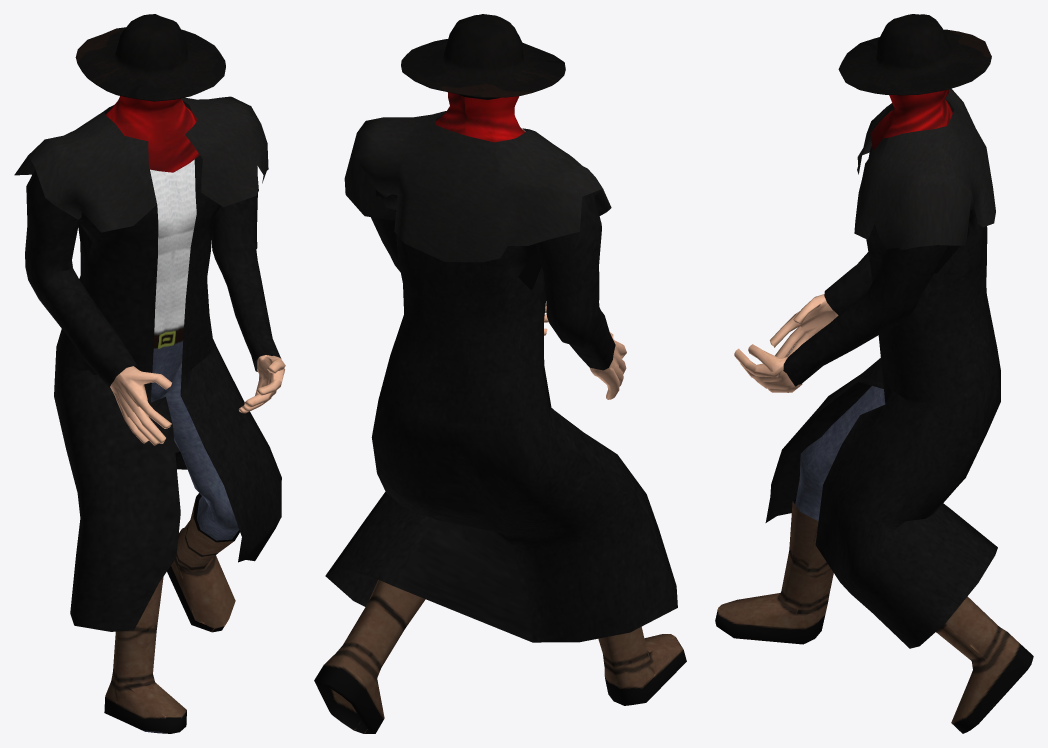
Rendered from U_shoot_4.obj.
3 views of the same model, side by side, from view 1: azimuth 30°, elevation 25°; view 2: azimuth 150°, elevation 25°; view 3: azimuth 270°, elevation 25° (orthographic). The views are drawn at different scales.
Parts seen in each view (by area): view 1: Undertaker_4:Undertaker_4:Undertaker; view 2: Undertaker_4:Undertaker_4:Undertaker; view 3: Undertaker_4:Undertaker_4:Undertaker.
Boxes of the visible parts, left/top/right/bottom form: Undertaker_4:Undertaker_4:Undertaker: left=14, top=14, right=285, bottom=733; Undertaker_4:Undertaker_4:Undertaker: left=314, top=14, right=686, bottom=733; Undertaker_4:Undertaker_4:Undertaker: left=715, top=14, right=1033, bottom=733.
Size of the model in its own units: 1.13 by 2.73 by 1.18.
1 material, 1 textured.
